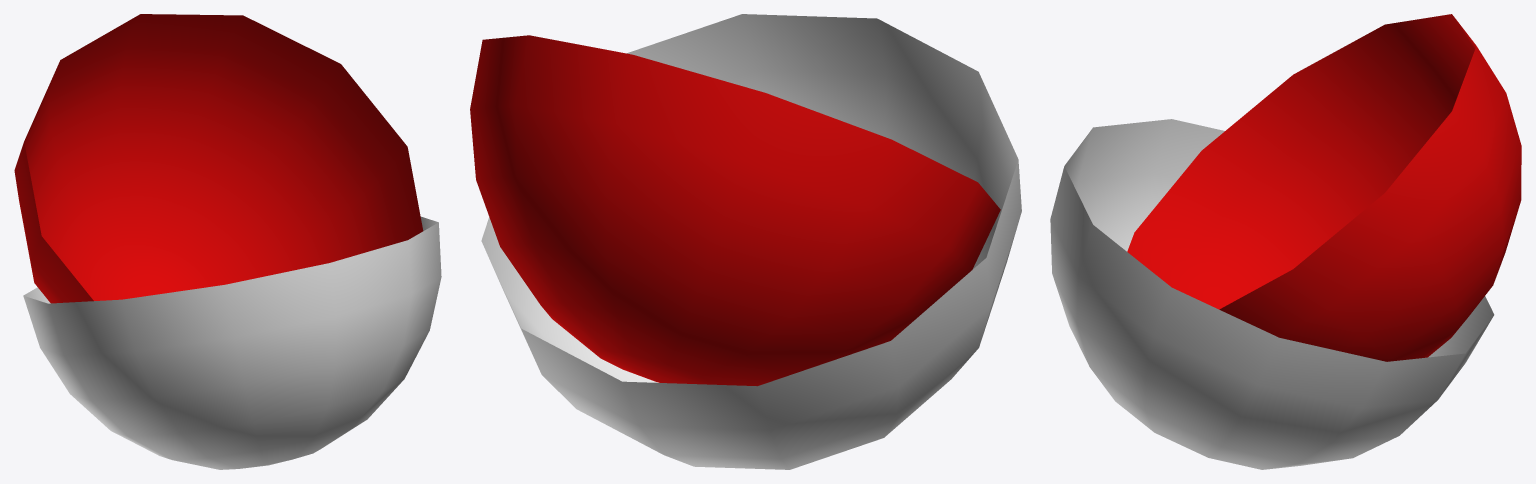
Rendered from objmd_GachaBall_01.fbx.
3 views of the same model, side by side, from view 1: azimuth 30°, elevation 25°; view 2: azimuth 150°, elevation 25°; view 3: azimuth 270°, elevation 25° (orthographic). The views are drawn at different scales.
Visible parts, largest first — view 1: gb_mesh; view 2: gb_mesh; view 3: gb_mesh.
Part boxes in pixels (<box>): gb_mesh: <box>14,14,441,469</box>; gb_mesh: <box>470,14,1021,469</box>; gb_mesh: <box>1050,14,1521,469</box>.
Size of the model in its own units: 21.67 by 20.89 by 22.18.
